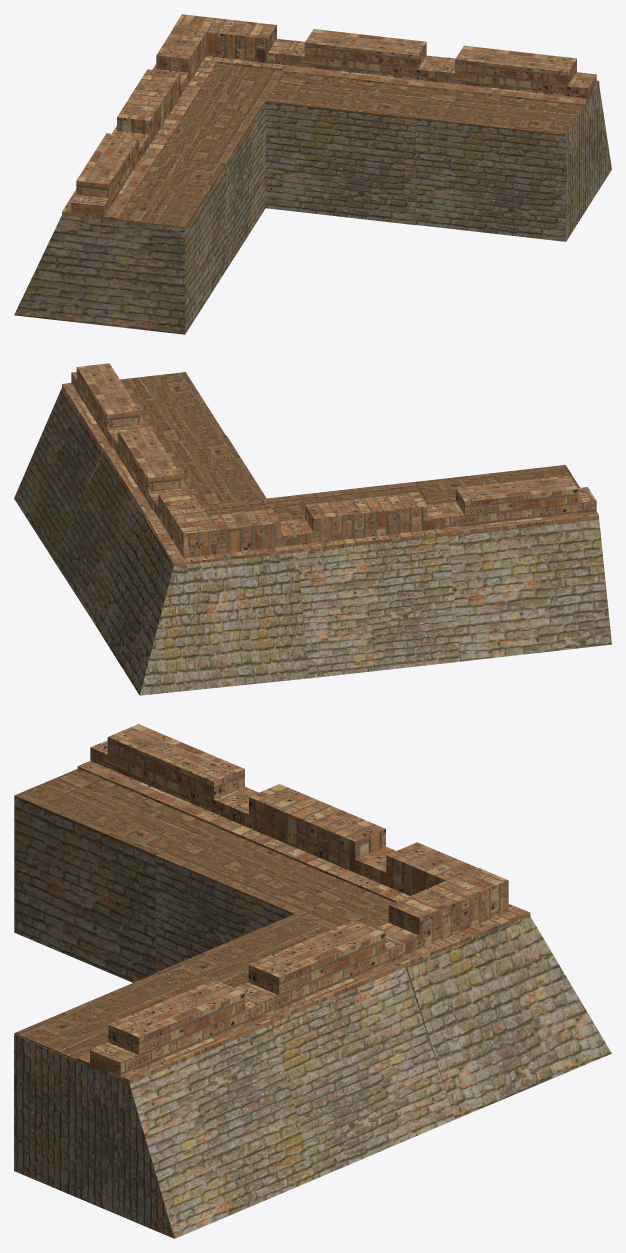
File: Bastion.fbx
The picture shows the model from 3 angles, top to bottom: view 1: azimuth 30°, elevation 25°; view 2: azimuth 150°, elevation 25°; view 3: azimuth 270°, elevation 25°; orthographic projection. The views are drawn at different scales.
Visible parts, largest first — view 1: RampartBody.003, RampartBody.005, RampartBody.004, RampartFloor.003, Rampart.006, Rampart.004, Rampart.003, Rampart.005, RampartFloor.006, RampartFloor.004, RampartFloor.005, RampartBody.006 (+1 smaller); view 2: RampartBody.007, RampartBody.005, RampartBody.006, Rampart.003, RampartBody.003, RampartBody.004, Rampart.005, RampartFloor.006, RampartFloor.004, Rampart.006, Rampart.004, StoneRampartWithStair (+2 smaller); view 3: RampartBody.003, RampartBody.007, RampartBody.004, RampartBody.005, Rampart.003, RampartFloor.003, Rampart.006, Rampart.005, Rampart.004, RampartBody.006, RampartFloor.005, StoneRampartWithStair (+2 smaller).
Part boxes in pixels (x1,y1,x2,y2): RampartBody.003: (416, 84, 611, 241); RampartBody.005: (14, 166, 225, 334); RampartBody.004: (265, 102, 415, 225); RampartFloor.003: (159, 63, 283, 164); Rampart.006: (434, 45, 599, 107); Rampart.004: (282, 29, 445, 89); Rampart.003: (112, 28, 217, 155); Rampart.005: (62, 133, 158, 221); RampartFloor.006: (415, 89, 583, 135); RampartFloor.004: (265, 72, 432, 119); RampartFloor.005: (118, 156, 225, 228); RampartBody.006: (225, 103, 265, 270); RampartBody.007: (95, 511, 309, 695); RampartBody.005: (448, 518, 611, 661); RampartBody.006: (297, 535, 460, 678); Rampart.003: (208, 492, 447, 559); RampartBody.003: (14, 388, 102, 561); RampartBody.004: (55, 451, 141, 624); Rampart.005: (437, 475, 598, 535); RampartFloor.006: (120, 372, 225, 442); RampartFloor.004: (161, 435, 266, 505); Rampart.006: (62, 363, 148, 451); Rampart.004: (103, 426, 189, 512); StoneRampartWithStair: (143, 490, 228, 566); RampartBody.003: (14, 1024, 315, 1238); RampartBody.007: (405, 916, 611, 1119); RampartBody.004: (271, 967, 454, 1178); RampartBody.005: (14, 797, 155, 982); Rampart.003: (219, 784, 476, 902); RampartFloor.003: (155, 828, 393, 929); Rampart.006: (77, 979, 271, 1084); Rampart.005: (77, 724, 258, 827); Rampart.004: (235, 920, 411, 1023); RampartBody.006: (155, 857, 292, 972); RampartFloor.005: (14, 768, 218, 856); StoneRampartWithStair: (375, 867, 530, 963).
Size of the model in its own units: 1178 by 251 by 796.
